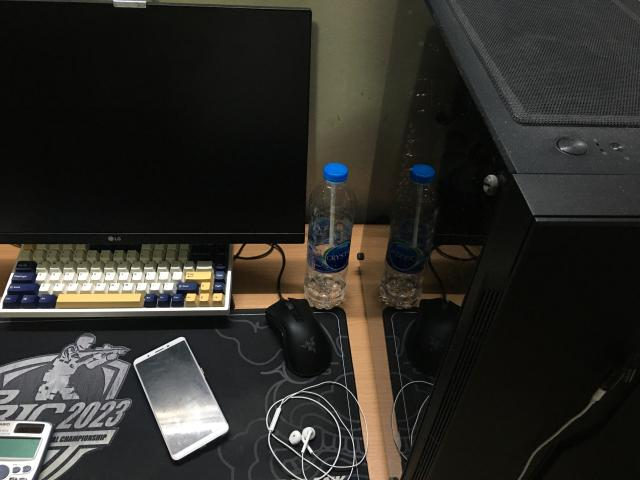Mobile phone: (134, 338, 229, 460)
Mouse: (265, 299, 331, 378)
bottle: (304, 164, 356, 309)
wire: (289, 426, 316, 455)
